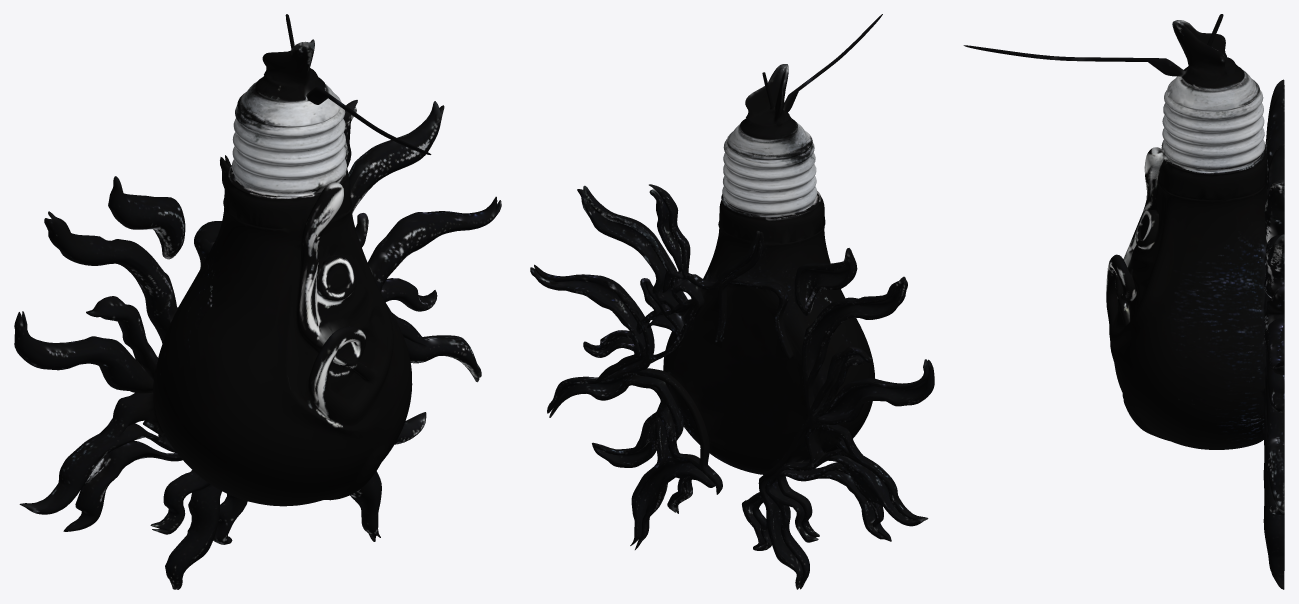
File: light.glb
The picture shows the model from 3 angles, left to right: view 1: azimuth 30°, elevation 25°; view 2: azimuth 150°, elevation 25°; view 3: azimuth 270°, elevation 25°; orthographic projection. The views are drawn at different scales.
Parts seen in each view (by area): view 1: node_0; view 2: node_0; view 3: node_0.
Boxes of the visible parts, x1,y1,x2,y2 form: node_0: (14,14,501,589); node_0: (530,14,934,589); node_0: (963,14,1284,589).
Size of the model in its own units: 0.86 by 0.9846 by 0.5485.
1 material, 1 textured.
